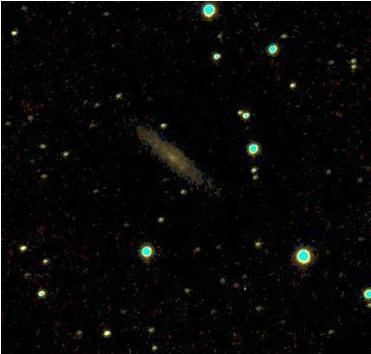star: (165, 152, 195, 182)
